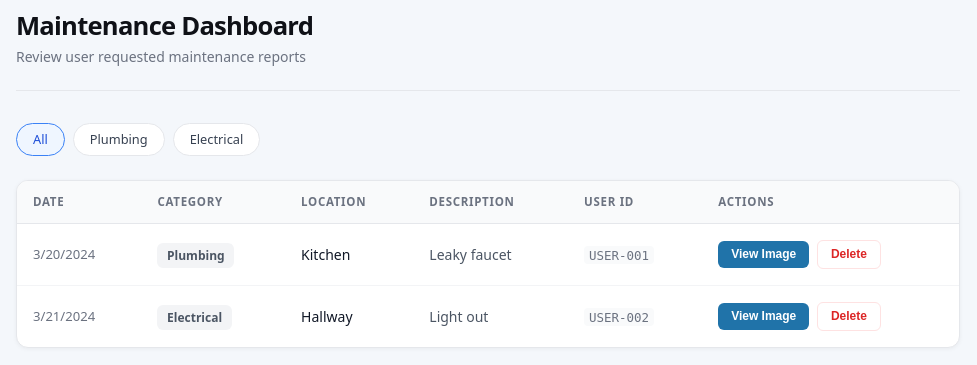
Scenario: MaintenanceDashboardPage › successfully deletes a record and prevents modal open
Click the button "Delete" in the row of "3/20/2024" at (849, 254), box [817,240,881,269]
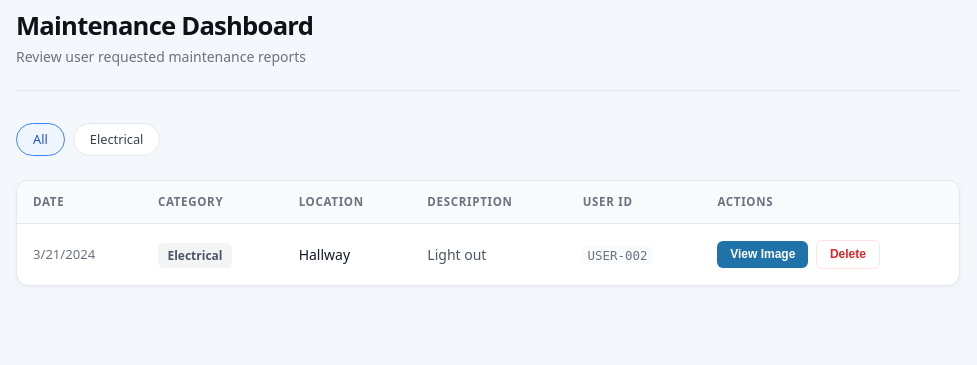
Expected: the text "Leaky faucet" is gone
